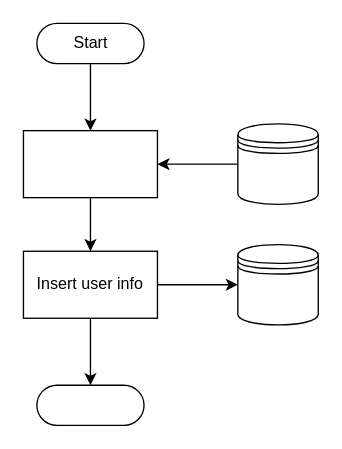
Some shapes in this 342 by 449 pixel diagram are drawn without their labels. Each missing label, with the centre of its shape:
"Connect to database" belongs at (x=89, y=163).
"End" belongs at (x=90, y=404).
